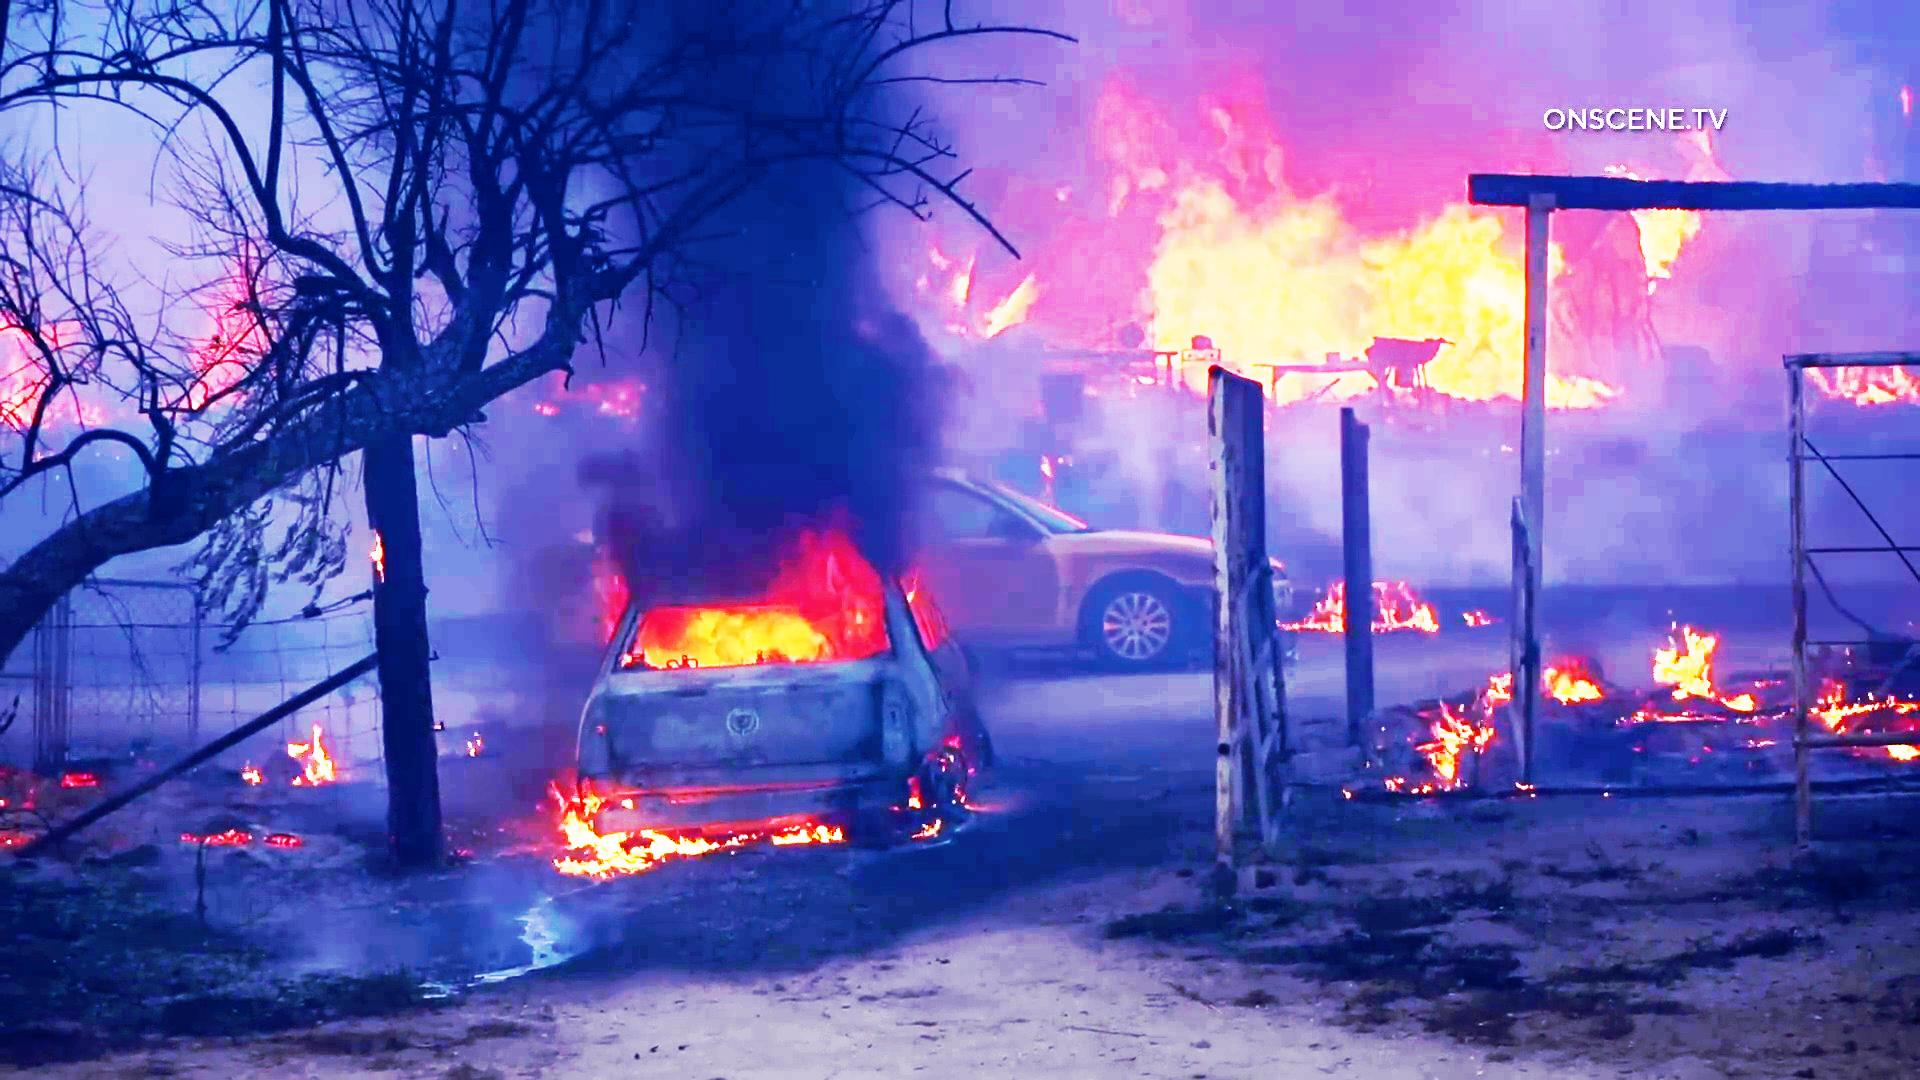fire: (1093, 80, 1519, 390), (615, 555, 884, 678)
smoke: (475, 15, 918, 526)
